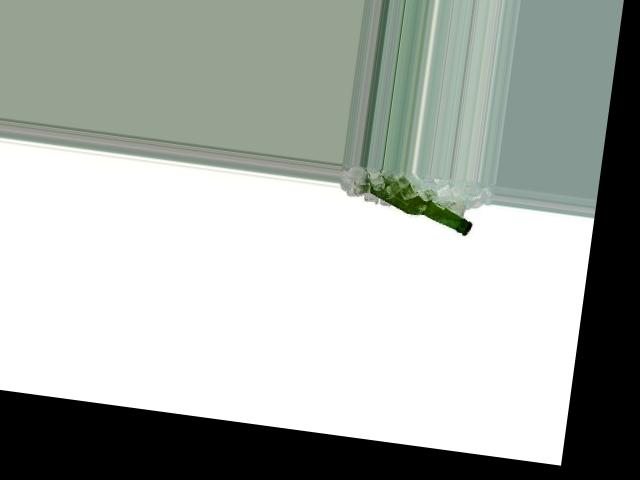beer: (358, 180, 477, 235)
